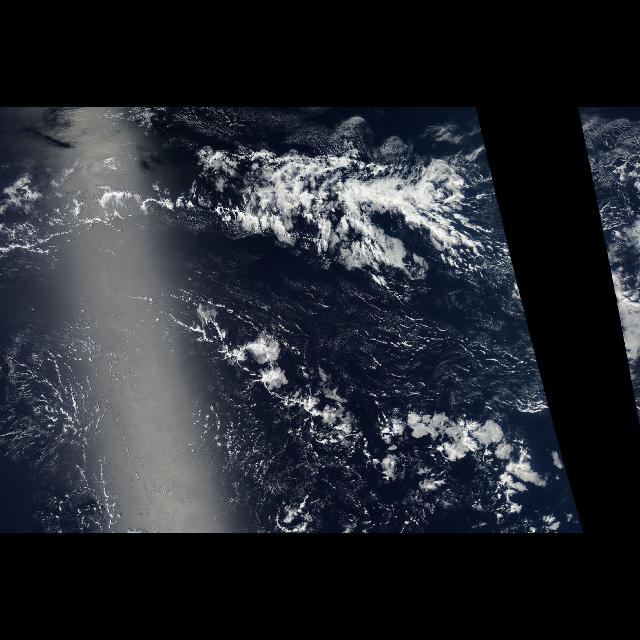Fish: (8, 115, 524, 478)
Sugar: (3, 310, 160, 532)
